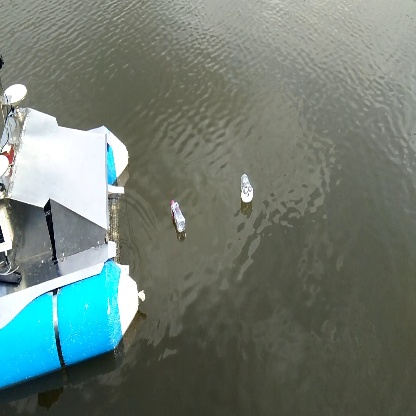bottle: (167, 198, 191, 238), (236, 171, 258, 205)
